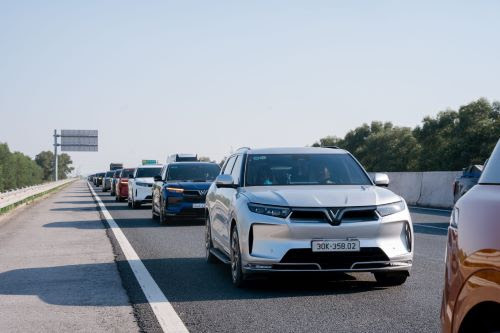number_plate: (308, 240, 366, 253)
